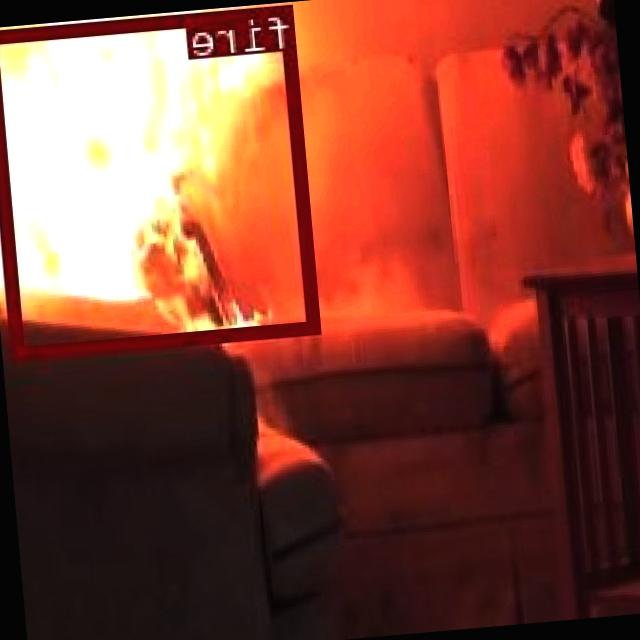fire: (0, 2, 322, 357)
